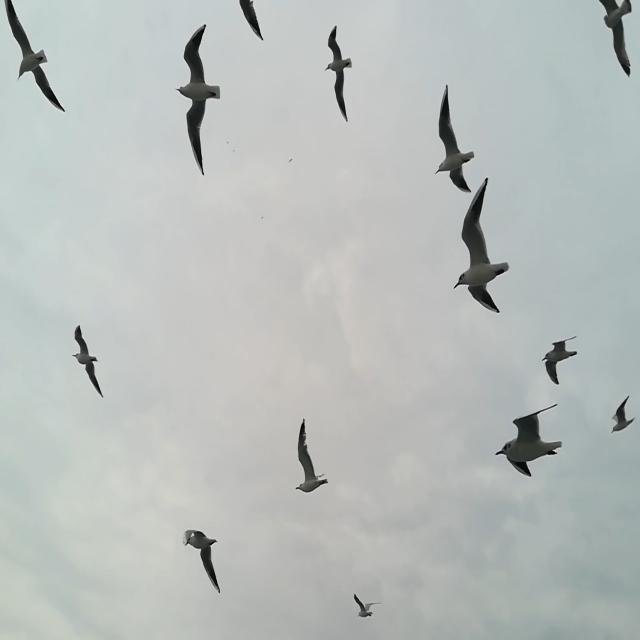bird: (453, 177, 509, 315), (175, 23, 221, 176), (4, 0, 66, 113), (495, 404, 562, 478), (434, 84, 476, 194), (324, 25, 352, 123), (598, 0, 632, 79), (295, 419, 330, 494), (182, 526, 220, 594), (71, 324, 104, 400), (542, 334, 580, 387), (238, 0, 264, 41), (610, 396, 636, 434), (353, 593, 381, 618), (288, 157, 293, 164)
